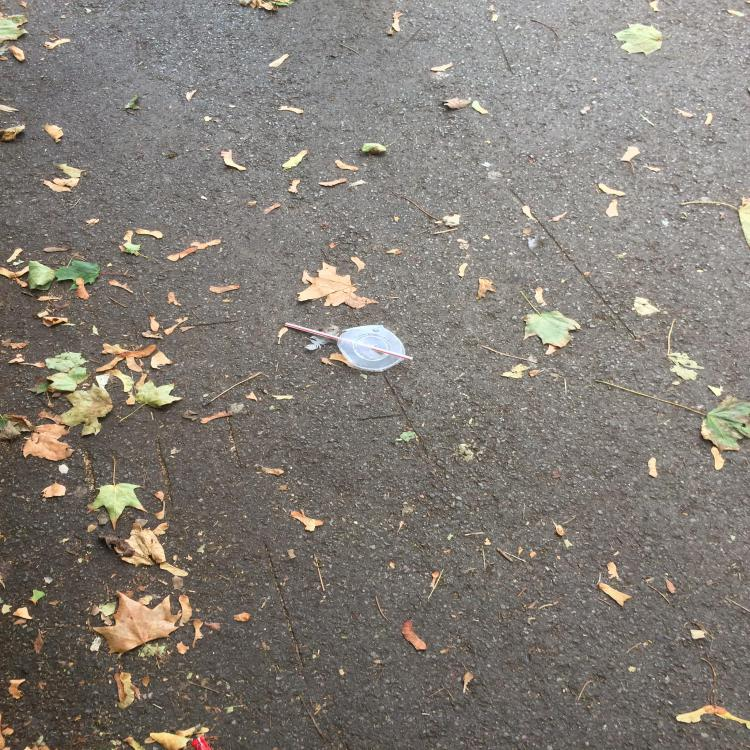Plastic lid: (337, 325, 405, 372)
Plastic straw: (284, 322, 414, 360)
Unlabeled litter: (189, 735, 213, 749)
